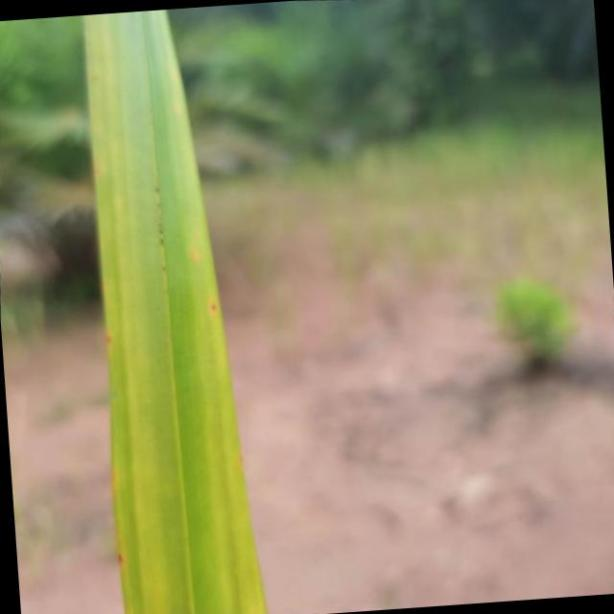nitrogen: (83, 0, 262, 614)
